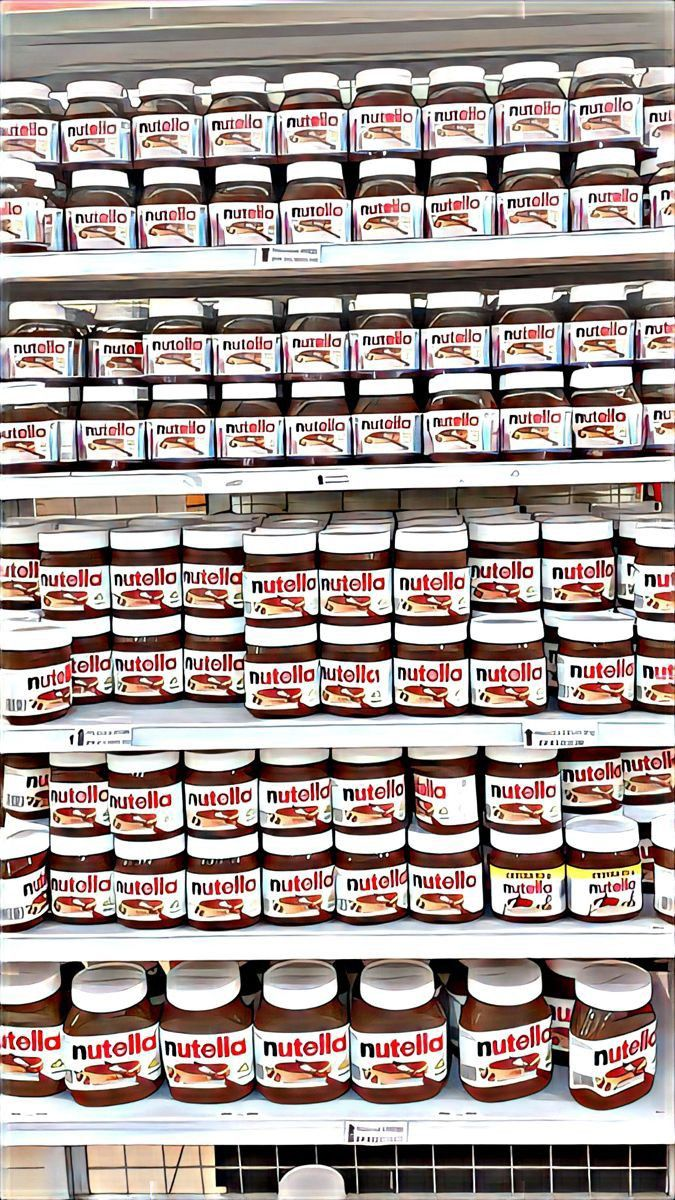Nutello: (61, 1001, 158, 1098), (239, 543, 317, 621), (390, 555, 468, 633), (332, 757, 410, 835), (183, 845, 261, 923), (403, 845, 481, 923)
